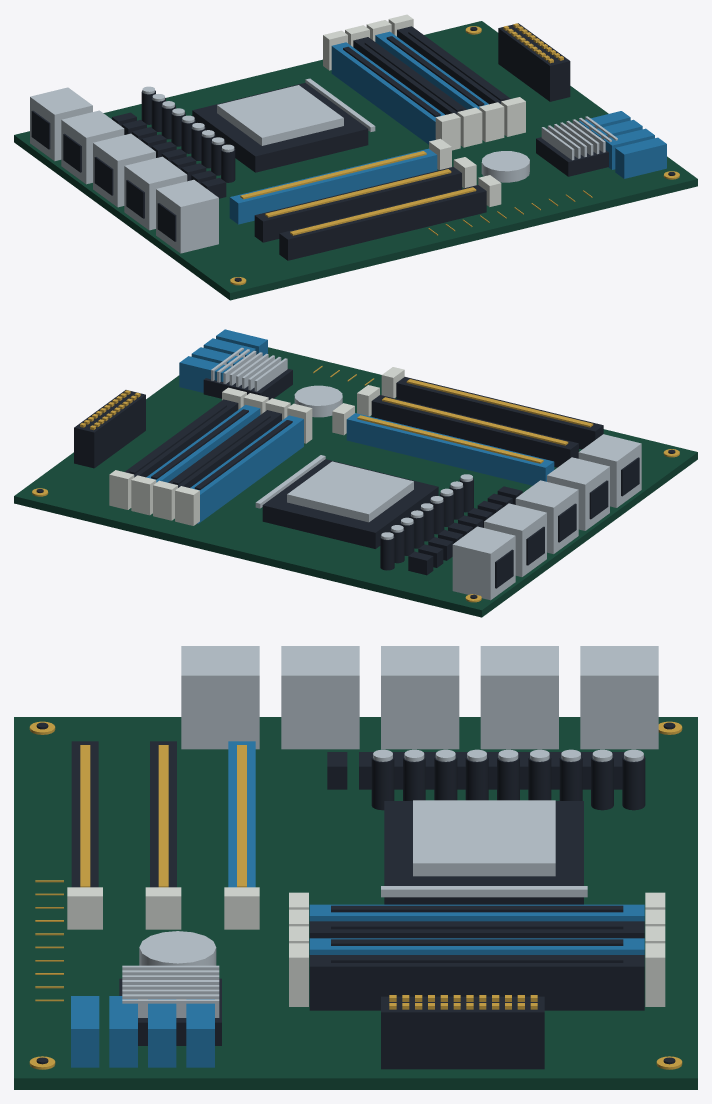
The model's file is motherboard.glb.
3 views of the same model, one above another, from view 1: azimuth 30°, elevation 25°; view 2: azimuth 150°, elevation 25°; view 3: azimuth 270°, elevation 25° (orthographic). The views are drawn at different scales.
Visible parts, largest first — view 1: Motherboard_pcb, Motherboard_black, Motherboard_metal, Motherboard_blue, Motherboard_white, Motherboard_gold; view 2: Motherboard_pcb, Motherboard_black, Motherboard_metal, Motherboard_blue, Motherboard_white, Motherboard_gold; view 3: Motherboard_pcb, Motherboard_black, Motherboard_metal, Motherboard_blue, Motherboard_white, Motherboard_gold.
Part boxes in pixels (bbox=[...]): Motherboard_pcb: bbox=[14, 21, 697, 300]; Motherboard_black: bbox=[31, 23, 675, 281]; Motherboard_metal: bbox=[30, 78, 617, 253]; Motherboard_blue: bbox=[229, 31, 666, 224]; Motherboard_white: bbox=[323, 14, 525, 206]; Motherboard_gold: bbox=[230, 23, 679, 285]; Motherboard_pcb: bbox=[14, 347, 697, 617]; Motherboard_black: bbox=[36, 368, 675, 598]; Motherboard_metal: bbox=[211, 347, 641, 600]; Motherboard_blue: bbox=[146, 329, 554, 523]; Motherboard_white: bbox=[109, 367, 404, 525]; Motherboard_gold: bbox=[32, 366, 679, 602]; Motherboard_pcb: bbox=[14, 717, 697, 1089]; Motherboard_black: bbox=[36, 722, 675, 1069]; Motherboard_metal: bbox=[122, 646, 658, 1017]; Motherboard_blue: bbox=[71, 741, 644, 1067]; Motherboard_white: bbox=[67, 887, 665, 1006]; Motherboard_gold: bbox=[29, 721, 682, 1069].
Size of the model in its own units: 0.6 by 0.066 by 0.48.
